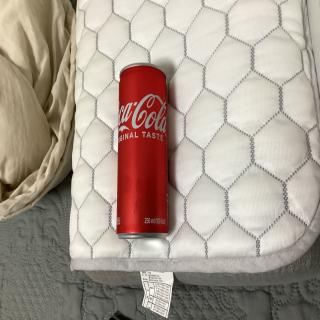cocacola: (116, 58, 172, 242)
